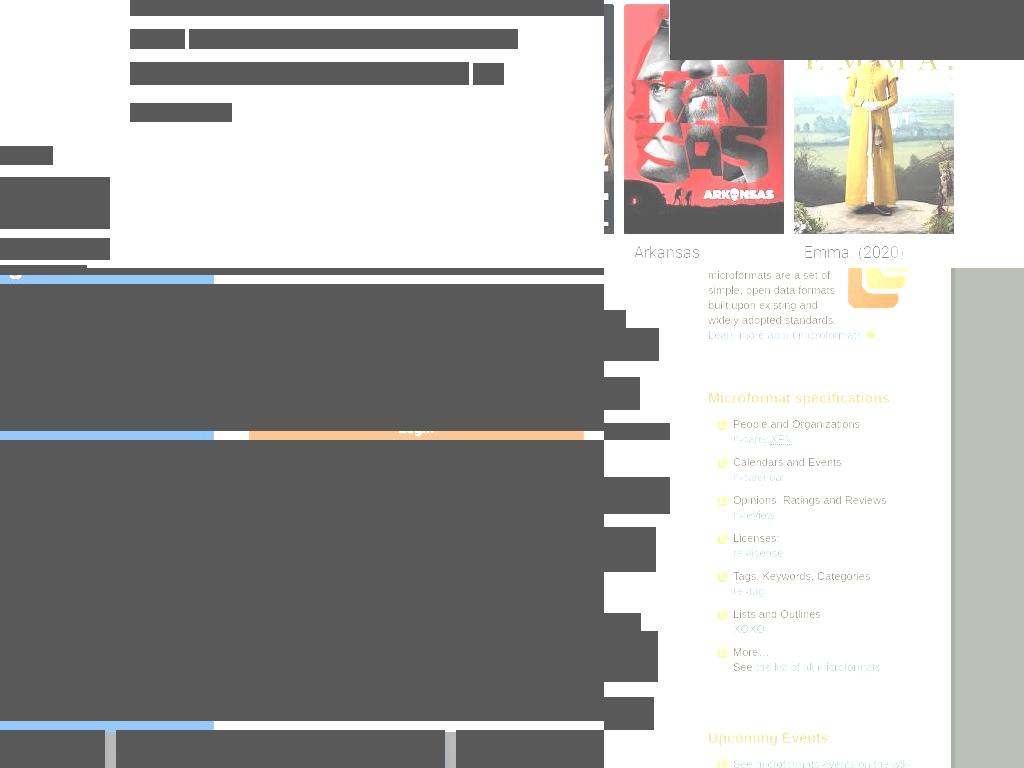button: (0, 440, 604, 721), (0, 284, 604, 431), (248, 404, 584, 452), (248, 503, 584, 551), (116, 730, 445, 768), (875, 6, 1012, 42), (767, 6, 865, 42), (634, 241, 774, 265), (804, 241, 944, 265), (708, 329, 875, 343), (733, 758, 910, 768), (755, 661, 881, 675), (534, 339, 584, 360), (733, 471, 785, 485), (733, 547, 783, 561), (604, 631, 642, 647), (733, 509, 775, 523), (733, 623, 765, 637), (733, 433, 764, 447), (733, 585, 764, 599), (770, 433, 794, 447)
field: (248, 332, 584, 370), (248, 268, 584, 298), (130, 62, 469, 85), (473, 63, 504, 85)
heading: (708, 390, 913, 407), (708, 730, 913, 747)
iframe: (670, 0, 1024, 60)
image: (0, 440, 604, 721), (0, 285, 604, 430), (116, 730, 445, 768), (0, 177, 110, 229), (847, 268, 911, 310), (714, 241, 774, 265), (884, 241, 944, 265)
label: (189, 29, 518, 49)
link: (308, 682, 524, 698), (130, 103, 232, 122), (0, 146, 53, 165), (248, 0, 283, 16), (770, 433, 794, 447)
text: (0, 302, 180, 377), (708, 268, 836, 327), (248, 468, 584, 487), (634, 241, 774, 265), (804, 241, 944, 265), (718, 417, 913, 433), (718, 455, 913, 471), (718, 493, 913, 509), (718, 531, 913, 547), (718, 569, 913, 585), (718, 607, 913, 623), (718, 645, 913, 661), (0, 238, 110, 260), (248, 343, 359, 362), (899, 16, 988, 32), (130, 29, 185, 49), (534, 340, 584, 358), (248, 268, 441, 272), (398, 419, 434, 437), (0, 268, 46, 280), (733, 661, 756, 674), (764, 433, 771, 446), (283, 0, 287, 16)
